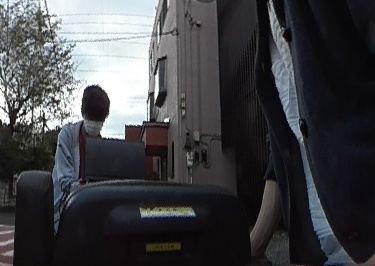person: (53, 85, 110, 196)
